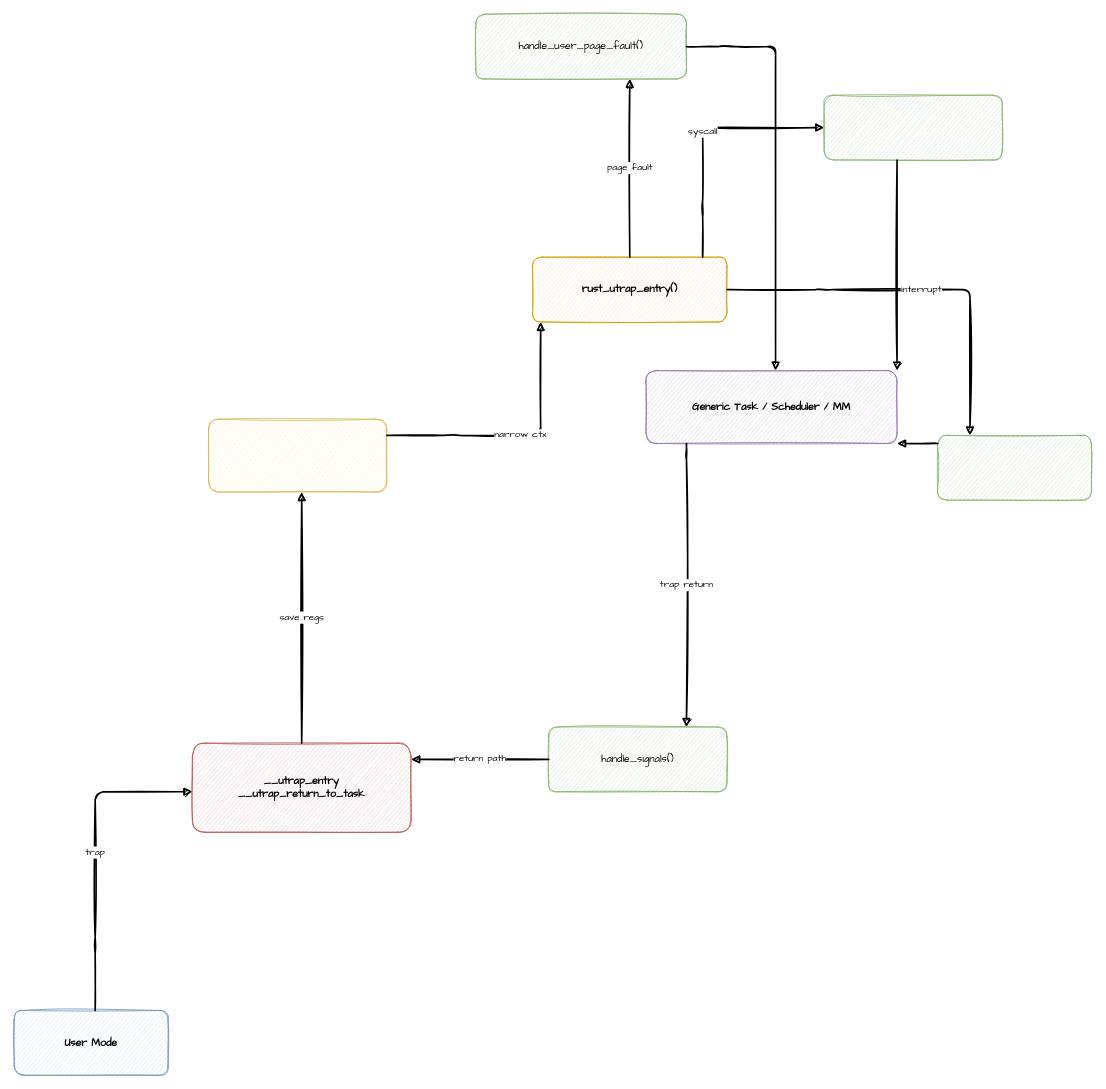
Image size: 1106x1089. Some labels were removed from this diagram. Here are the shapes that lost their labels. From the top down, the box of each, then its label:
(823, 94, 1002, 160): handle_syscall()
(208, 418, 387, 492): TrapFrame layout ABI
(937, 435, 1091, 500): handle_intr()
